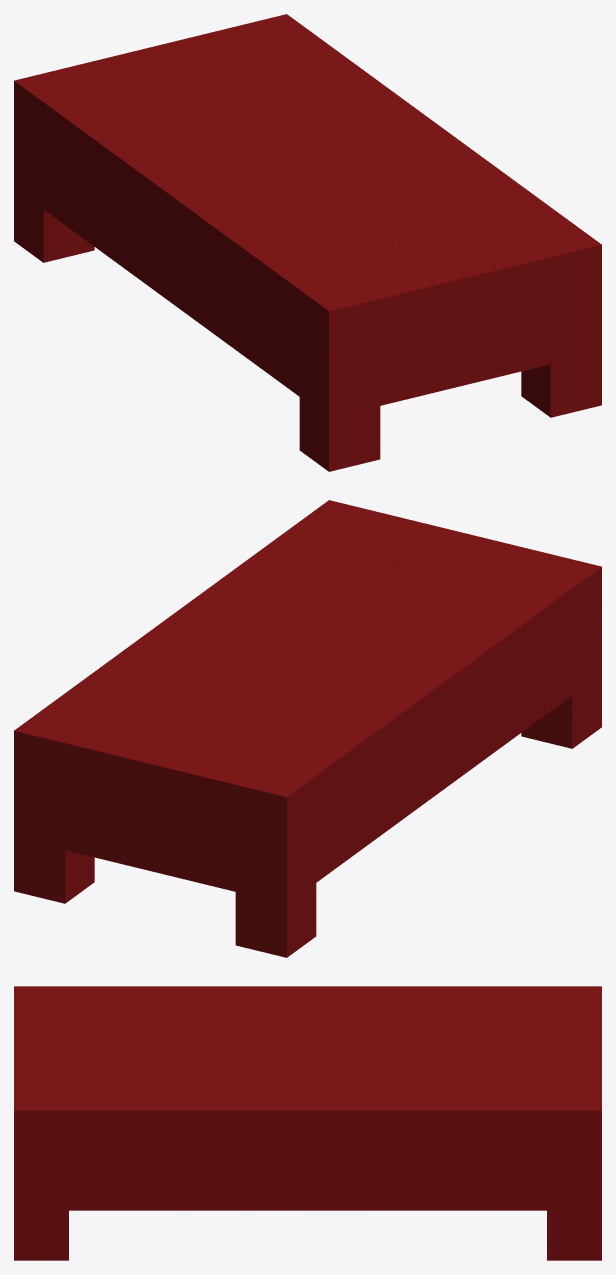
The model's file is bed.fbx.
3 views of the same model, one above another, from view 1: azimuth 30°, elevation 25°; view 2: azimuth 150°, elevation 25°; view 3: azimuth 270°, elevation 25° (orthographic). The views are drawn at different scales.
Visible parts, largest first — view 1: ObjObject; view 2: ObjObject; view 3: ObjObject.
Part boxes in pixels (x1,y1,x2,y2): ObjObject: (14,14,601,471); ObjObject: (14,500,601,957); ObjObject: (14,986,601,1260).
Size of the model in its own units: 62.99 by 35.43 by 126.
